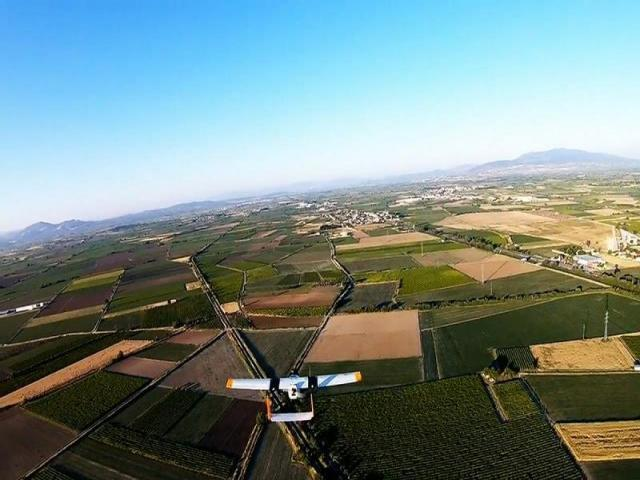hedef: (220, 360, 374, 428)
